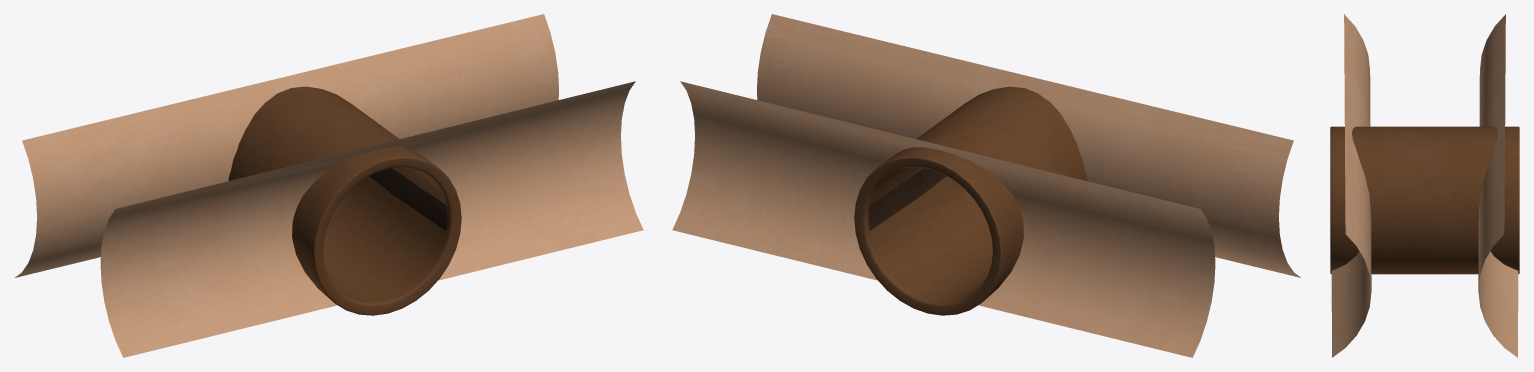
The model's file is CorridorUnity.fbx.
The picture shows the model from 3 angles, left to right: view 1: azimuth 30°, elevation 25°; view 2: azimuth 150°, elevation 25°; view 3: azimuth 270°, elevation 25°; orthographic projection. The views are drawn at different scales.
Parts seen in each view (by area): view 1: Окружность.007; view 2: Окружность.007; view 3: Окружность.007.
Boxes of the visible parts, box(x1,y1,x2,y2) form: Окружность.007: box(15, 14, 643, 357); Окружность.007: box(672, 14, 1300, 357); Окружность.007: box(1330, 14, 1519, 357).
Size of the model in its own units: 544 by 163 by 198.
